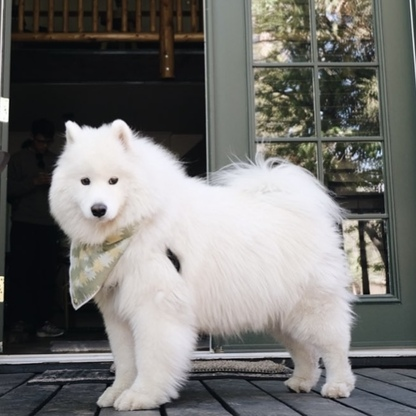samoyed: (43, 114, 359, 416)
